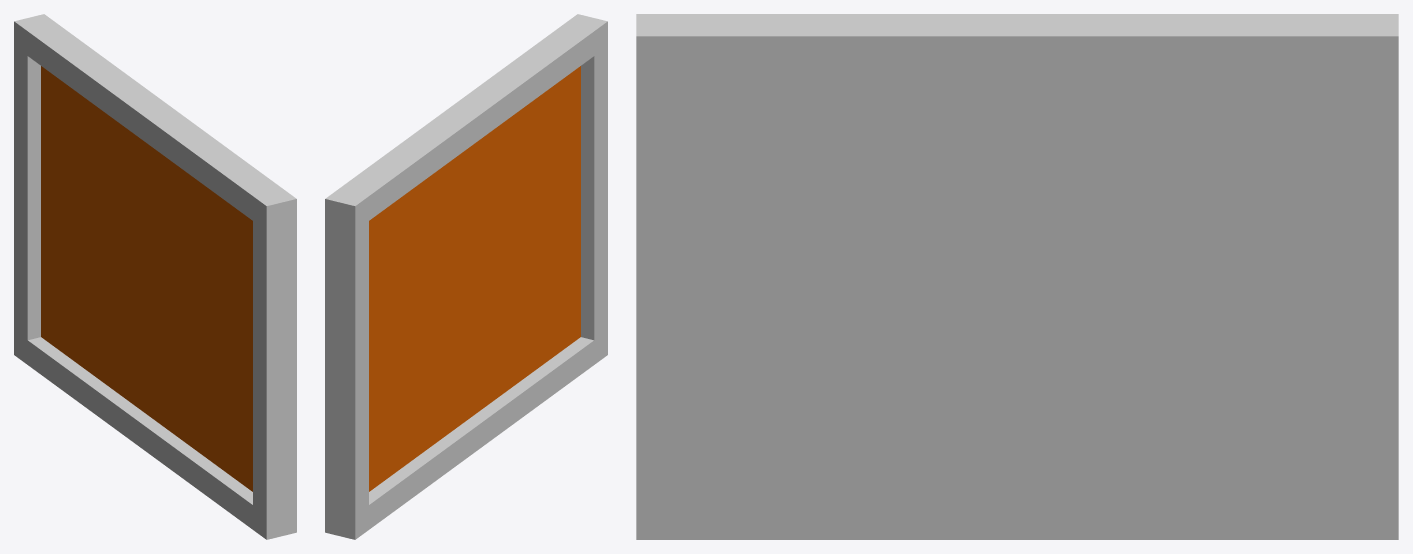
File: wall_paint_02.fbx
3 views of the same model, side by side, from view 1: azimuth 30°, elevation 25°; view 2: azimuth 150°, elevation 25°; view 3: azimuth 270°, elevation 25° (orthographic). The views are drawn at different scales.
Parts seen in each view (by area): view 1: Cube.018; view 2: Cube.018; view 3: Cube.018.
Boxes of the visible parts, bbox=[...] form: Cube.018: bbox=[14, 14, 296, 539]; Cube.018: bbox=[325, 14, 607, 539]; Cube.018: bbox=[636, 14, 1398, 539].
Bounding box in the file's own units: 4.57 × 48.39 × 66.39.
